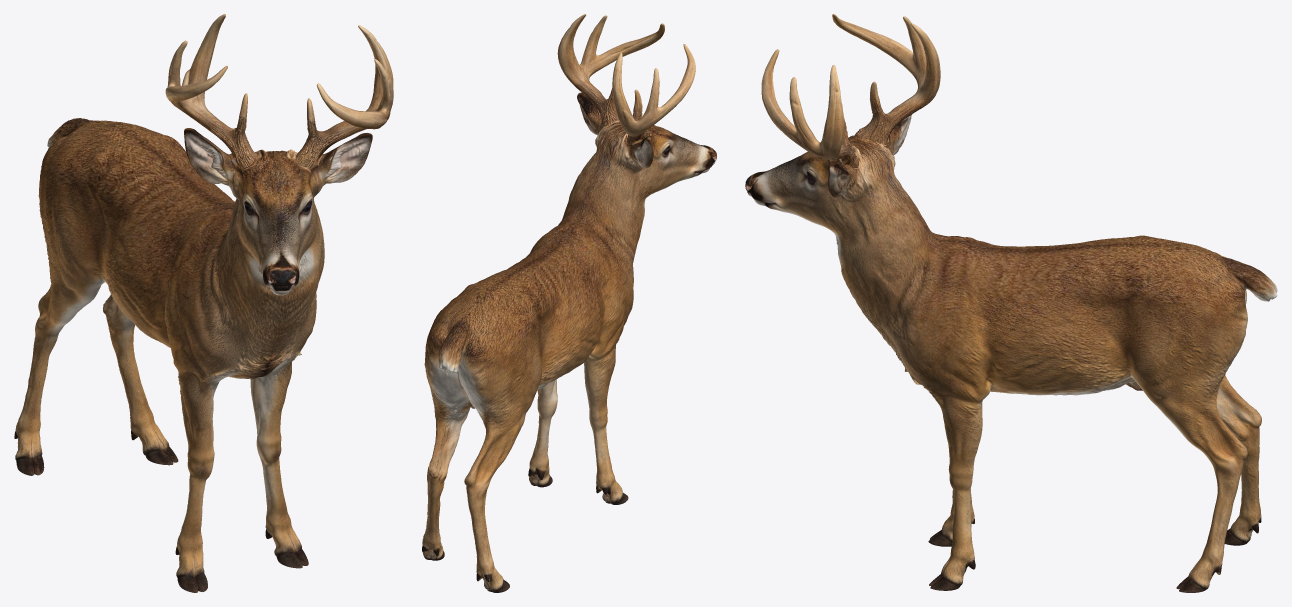
The model's file is deer-high-detail-source.glb.
The picture shows the model from 3 angles, left to right: view 1: azimuth 30°, elevation 25°; view 2: azimuth 150°, elevation 25°; view 3: azimuth 270°, elevation 25°; orthographic projection. The views are drawn at different scales.
Parts seen in each view (by area): view 1: deer; view 2: deer; view 3: deer.
Part boxes in pixels (x1=…): deer: x1=14, y1=14, x2=393, y2=592; deer: x1=422, y1=14, x2=716, y2=592; deer: x1=745, y1=14, x2=1277, y2=592.
Bounding box in the file's own units: 0.5911 × 1.7 × 1.56.
1 material, 1 textured.
